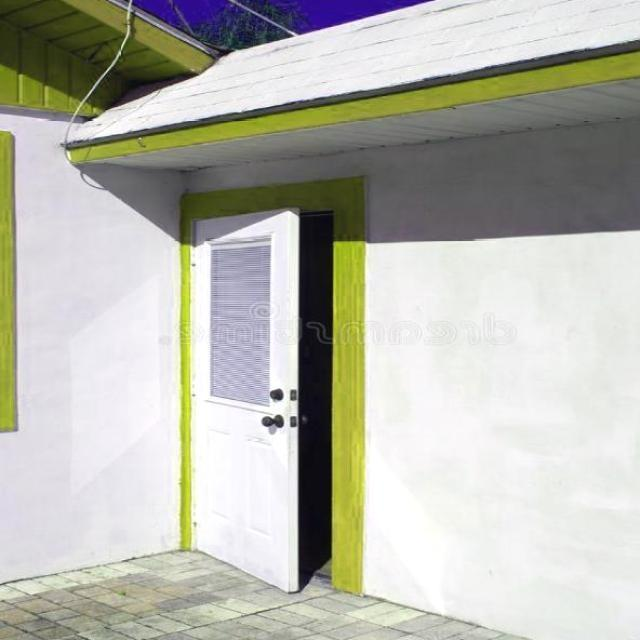door: (183, 206, 308, 594)
